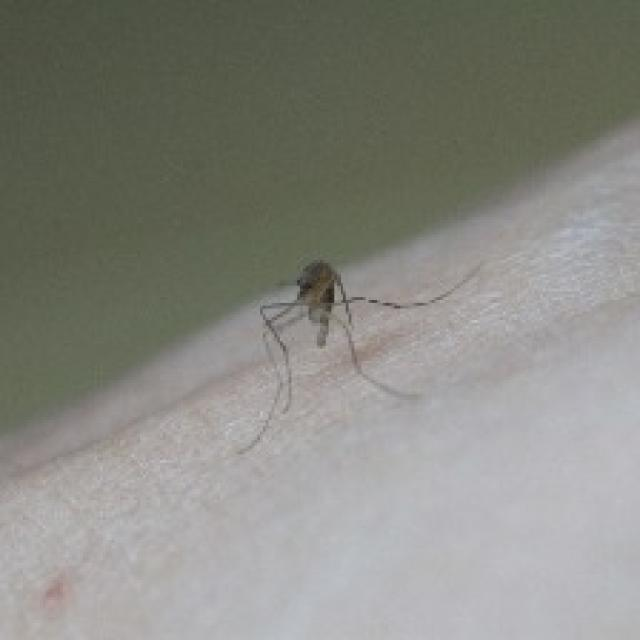culex: (231, 255, 483, 454)
